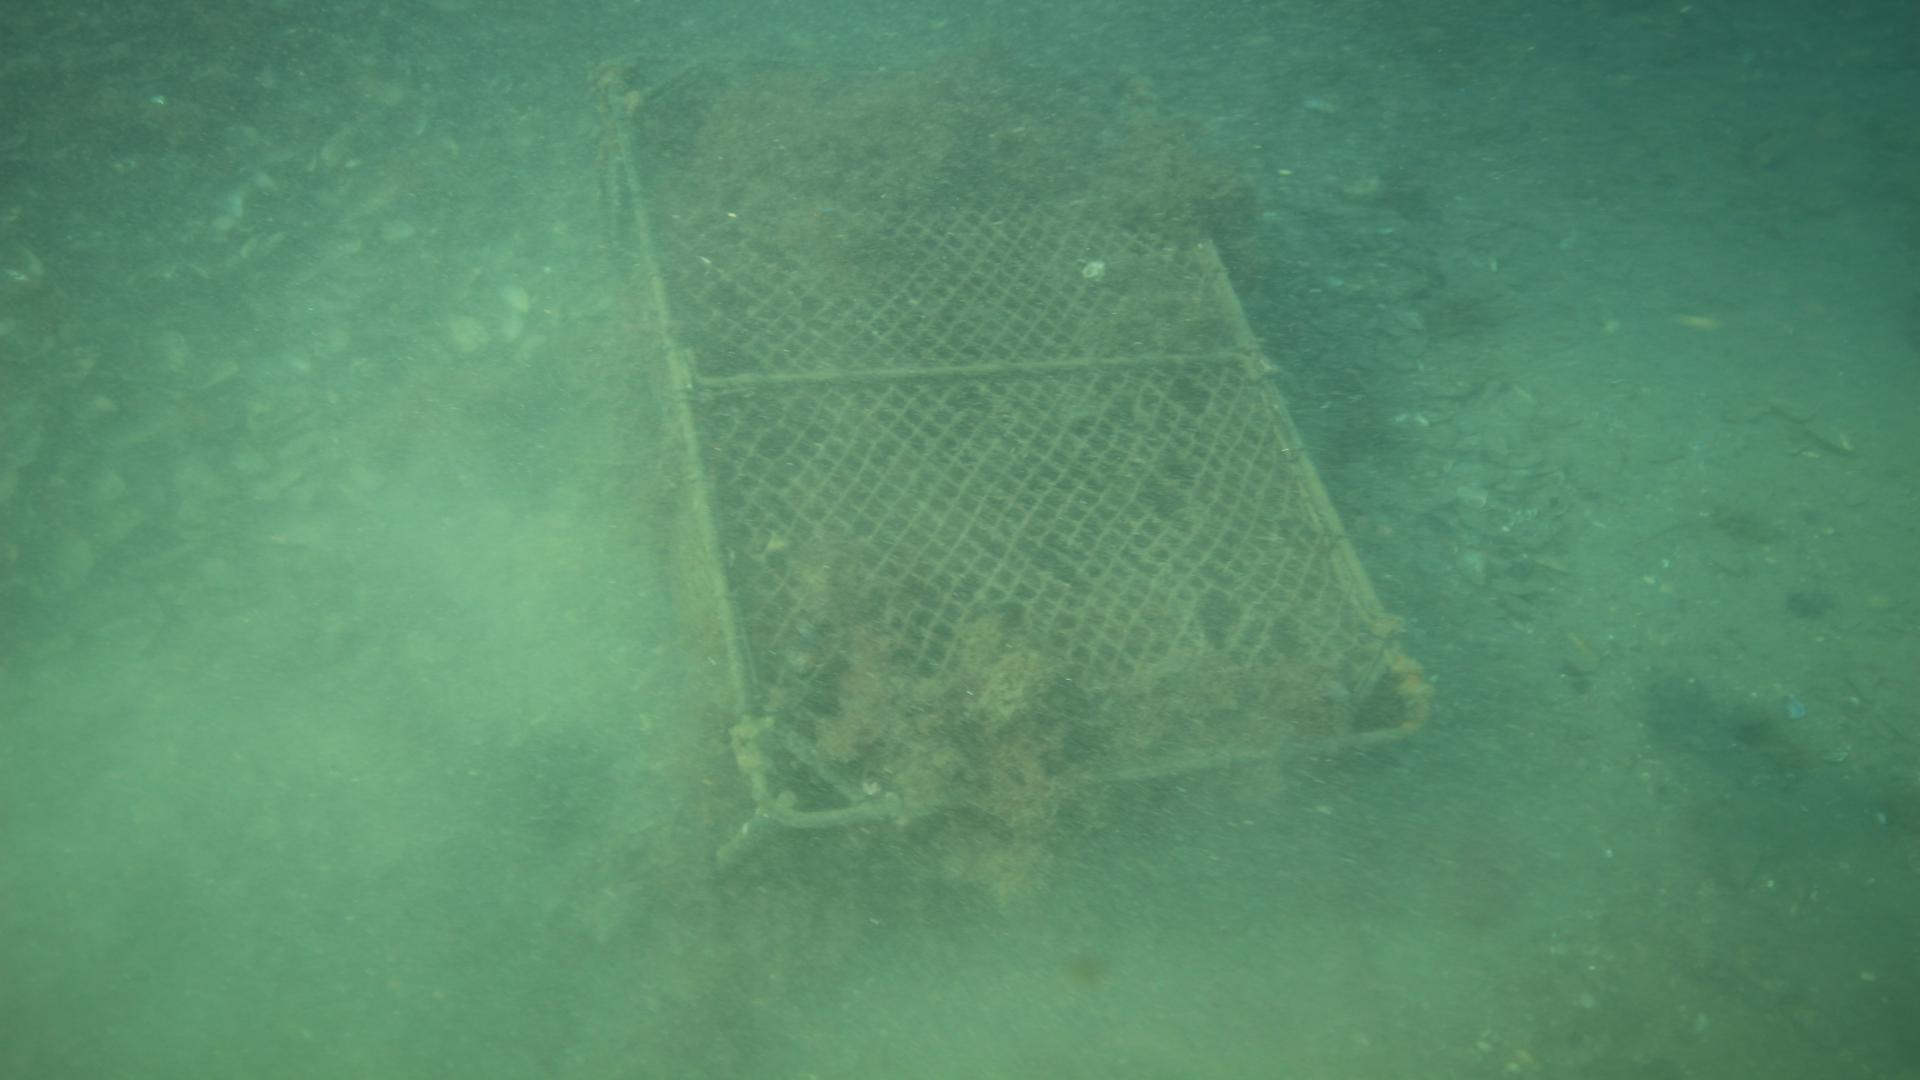rectangular fish trap: (604, 0, 1435, 829)
